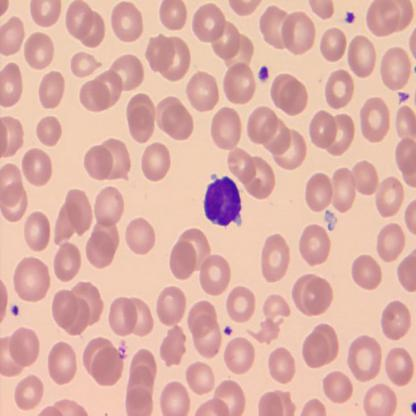Lymphocyte: (202, 171, 244, 229)
